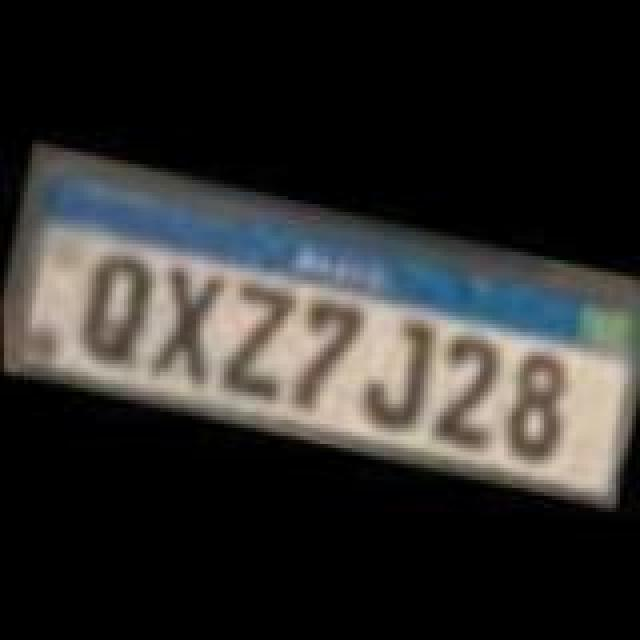2: (418, 328, 510, 456)
7: (280, 292, 364, 420)
8: (490, 340, 582, 464)
J: (352, 306, 444, 434)
Q: (68, 248, 160, 372)
X: (138, 260, 234, 388)
Z: (214, 274, 302, 406)
